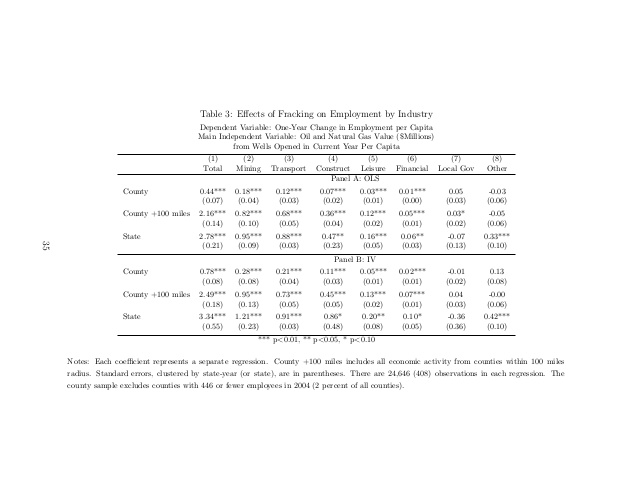fracking table: (112, 103, 521, 345)
